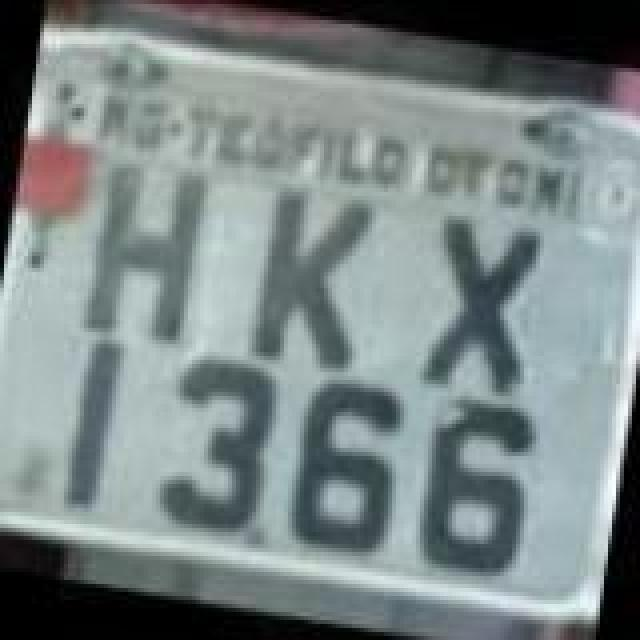1: (56, 338, 132, 518)
3: (156, 348, 288, 540)
6: (282, 370, 418, 562), (410, 396, 546, 580)
H: (84, 158, 216, 350)
K: (248, 188, 384, 376)
X: (410, 206, 550, 394)
